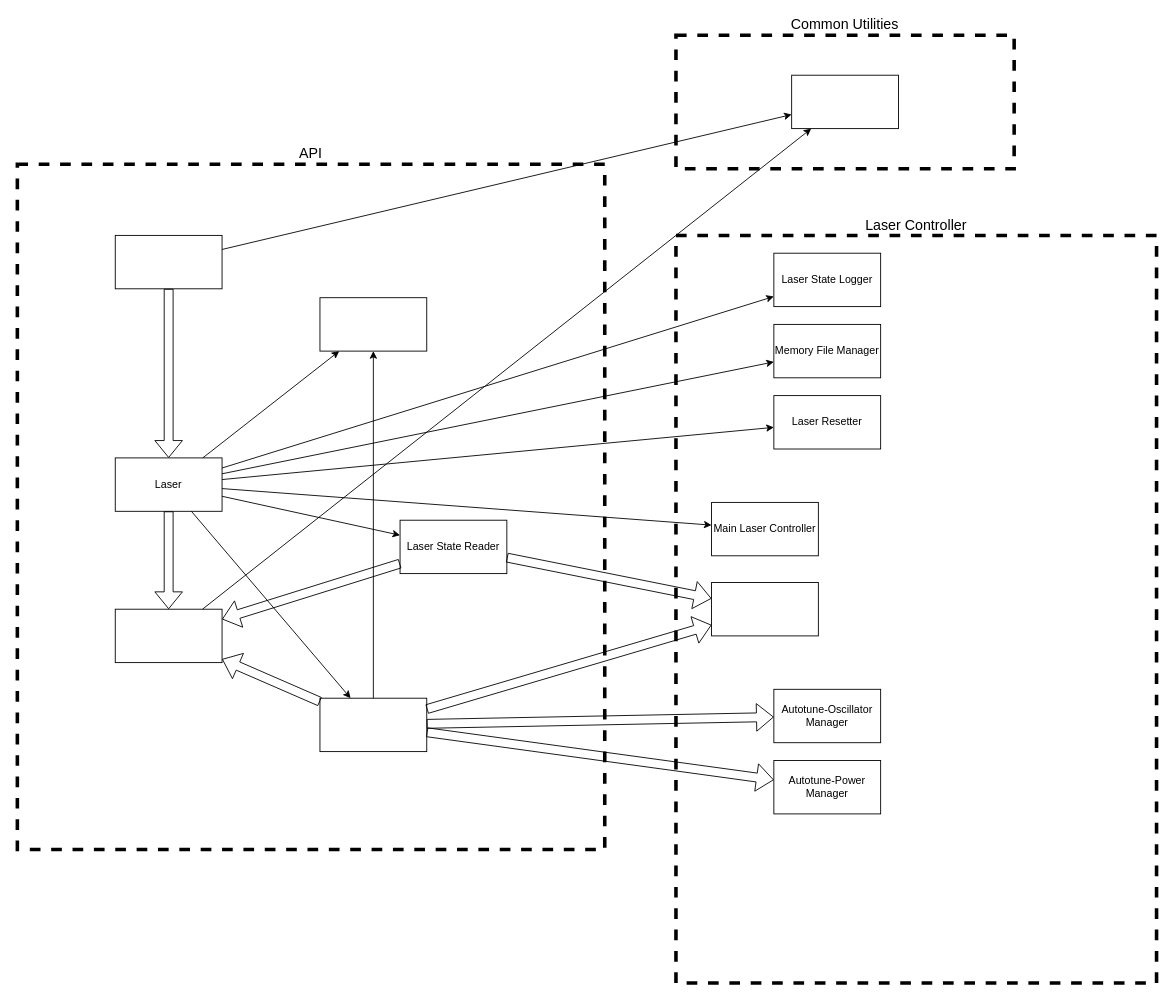
This 1173x999 diagram has some shape labels left out. Here are the shapes that lost their labels. From the top down, the box of each, then its label:
(791, 74, 898, 129): Common Functions
(114, 235, 222, 289): Command Router
(319, 297, 427, 351): Command Validation
(711, 582, 818, 636): Main Laser Controller Interface
(114, 608, 222, 663): Definitions
(319, 697, 427, 752): Autotune Manager for API
